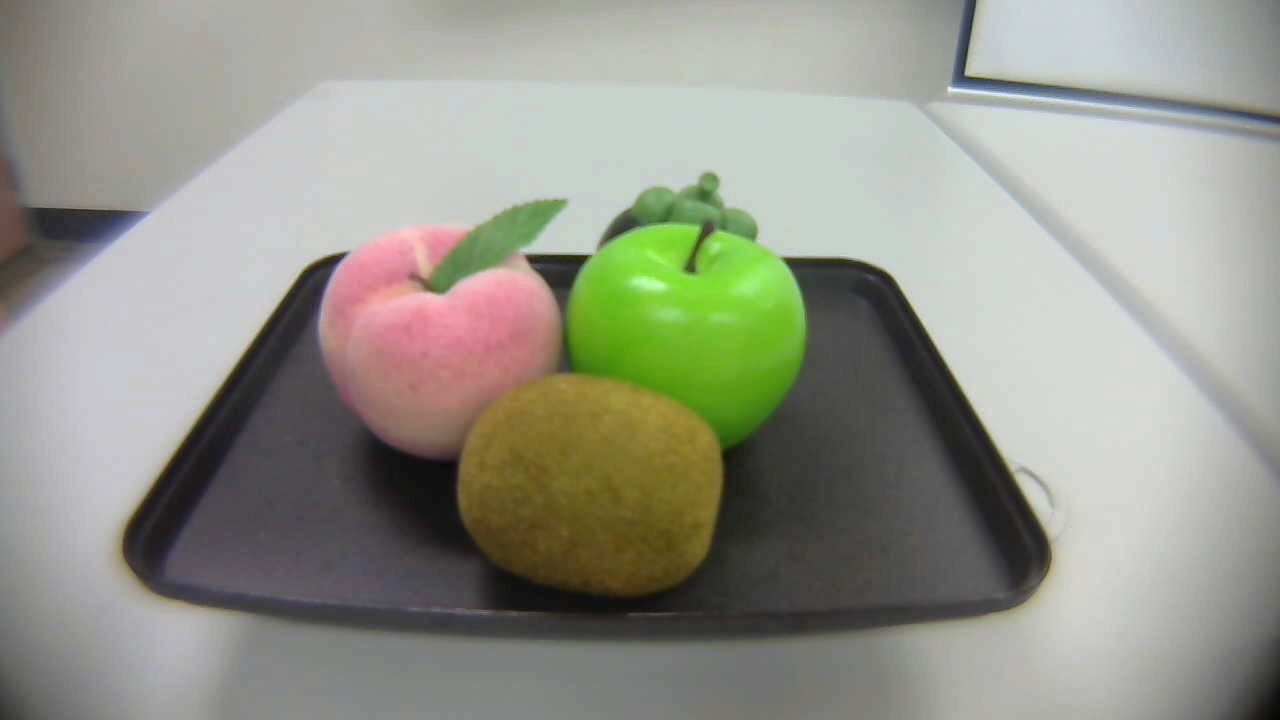green apple: (565, 214, 810, 458)
kiwi fruit: (445, 368, 738, 611)
mangosteen: (594, 168, 766, 260)
peach: (308, 191, 570, 471)
